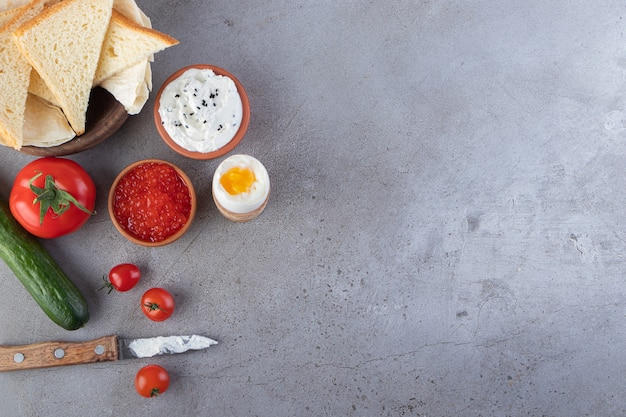knife: (0, 362, 221, 376)
